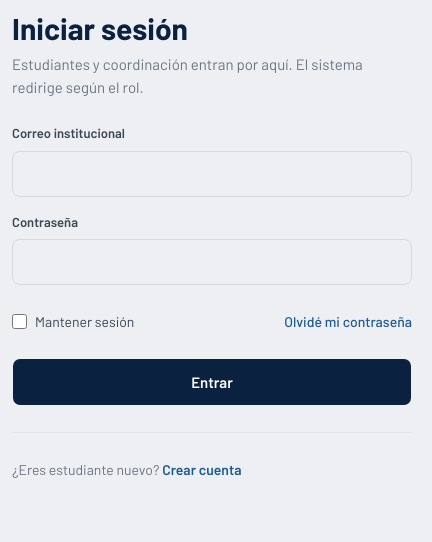
Test case: LoginForm › shows the backend's error message on invalid credentials
Type "ana@pascualbravo.edu.co" into the field labelled "Correo institucional" at coordinates (212, 174), box left=12, top=150, right=412, bottom=196
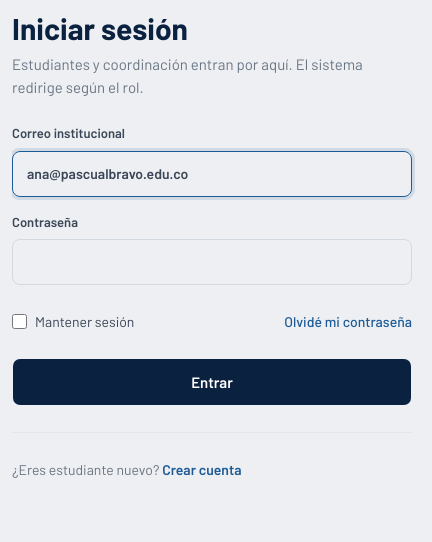
Type "wrong-password" into the password field labelled "Contraseña" at coordinates (212, 262), box left=12, top=239, right=412, bottom=285
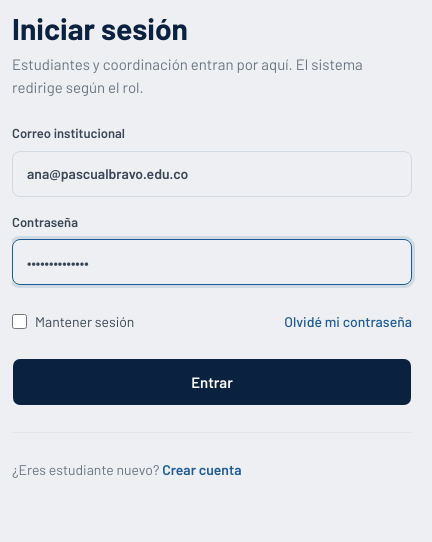
Click the button "Entrar" at coordinates (212, 382), box left=12, top=358, right=412, bottom=406
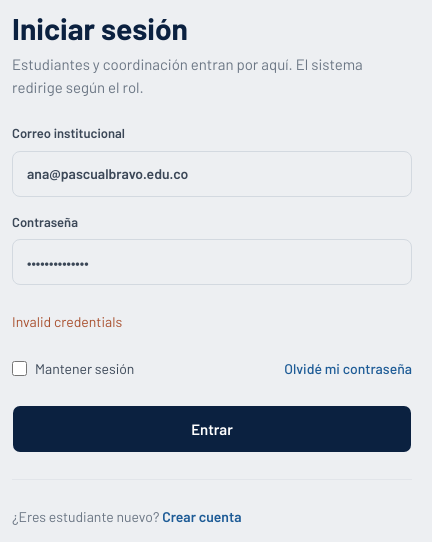
Expected: the text "Invalid credentials" is shown, left=12, top=313, right=122, bottom=330
